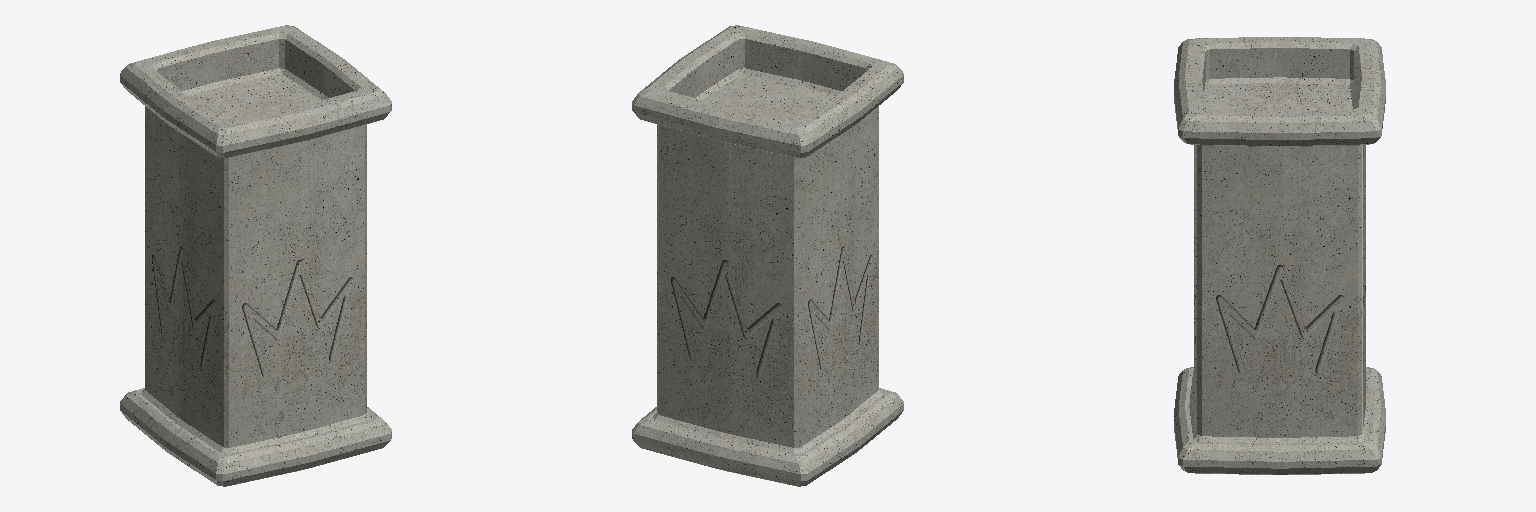
3 renders of one model, left to right at view 1: azimuth 30°, elevation 25°; view 2: azimuth 150°, elevation 25°; view 3: azimuth 270°, elevation 25°, orthographic.
Parts seen in each view (by area): view 1: fire_Plane.005; view 2: fire_Plane.005; view 3: fire_Plane.005.
Part boxes in pixels (x1,y1,x2,y2): fire_Plane.005: (120,25,391,486); fire_Plane.005: (632,25,903,486); fire_Plane.005: (1174,37,1385,474).
Size of the model in its own units: 0.1291 by 0.24 by 0.1291.
1 materials, 1 textured.